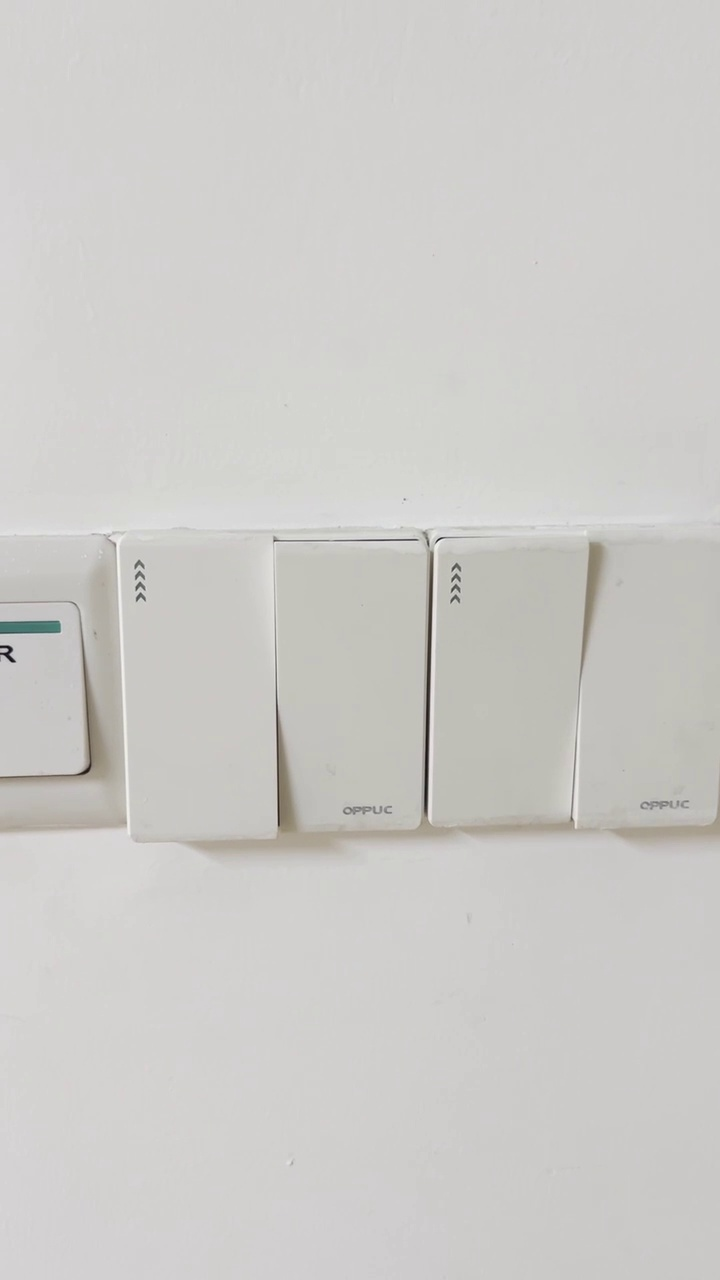button1: (127, 539, 269, 836), (432, 543, 575, 822), (283, 544, 419, 825), (583, 547, 712, 820)
